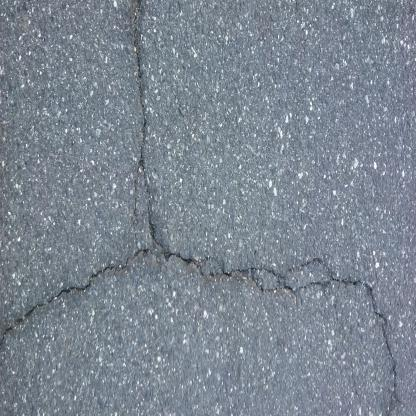Cracks: (0, 238, 401, 398), (126, 0, 169, 256)
